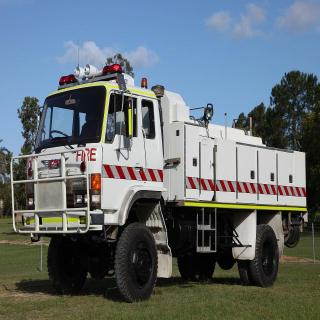Fire_truck: (10, 39, 308, 303)
